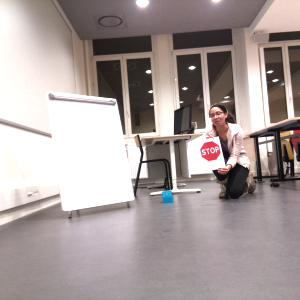stop: (200, 141, 222, 161)
